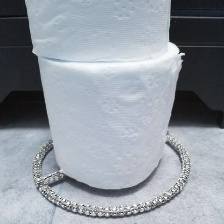tissue: (30, 34, 188, 194), (18, 0, 176, 67)
